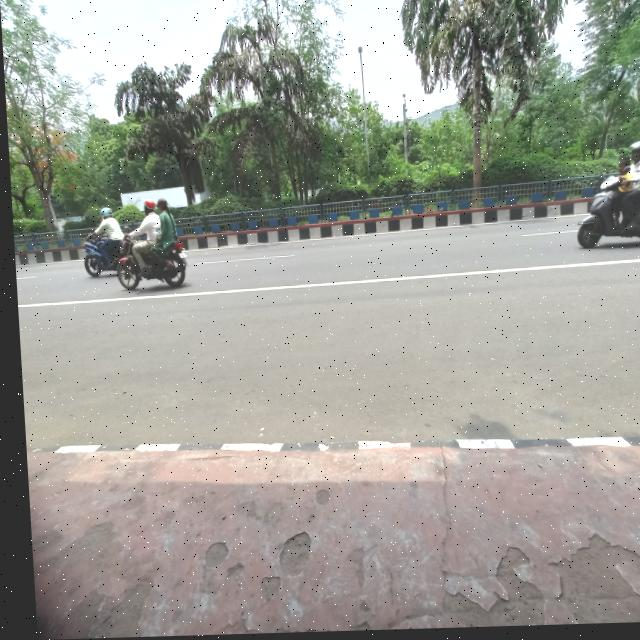bike: (563, 174, 640, 256), (111, 227, 187, 302), (76, 231, 109, 281)
